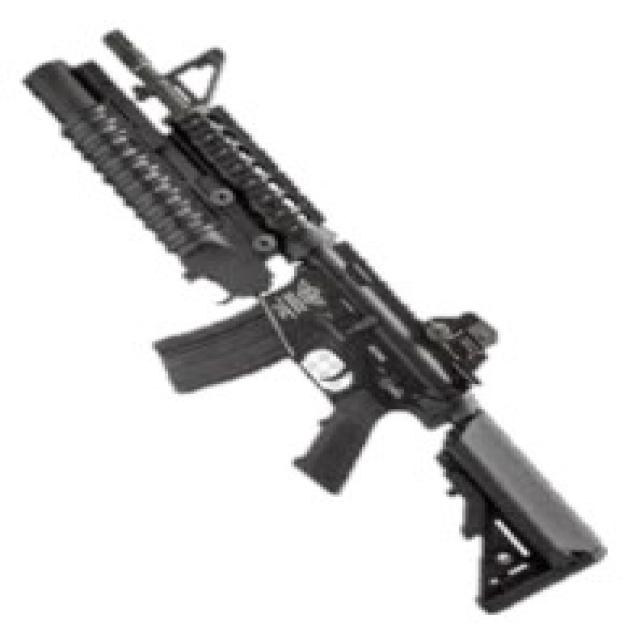rifle: (9, 28, 614, 625)
